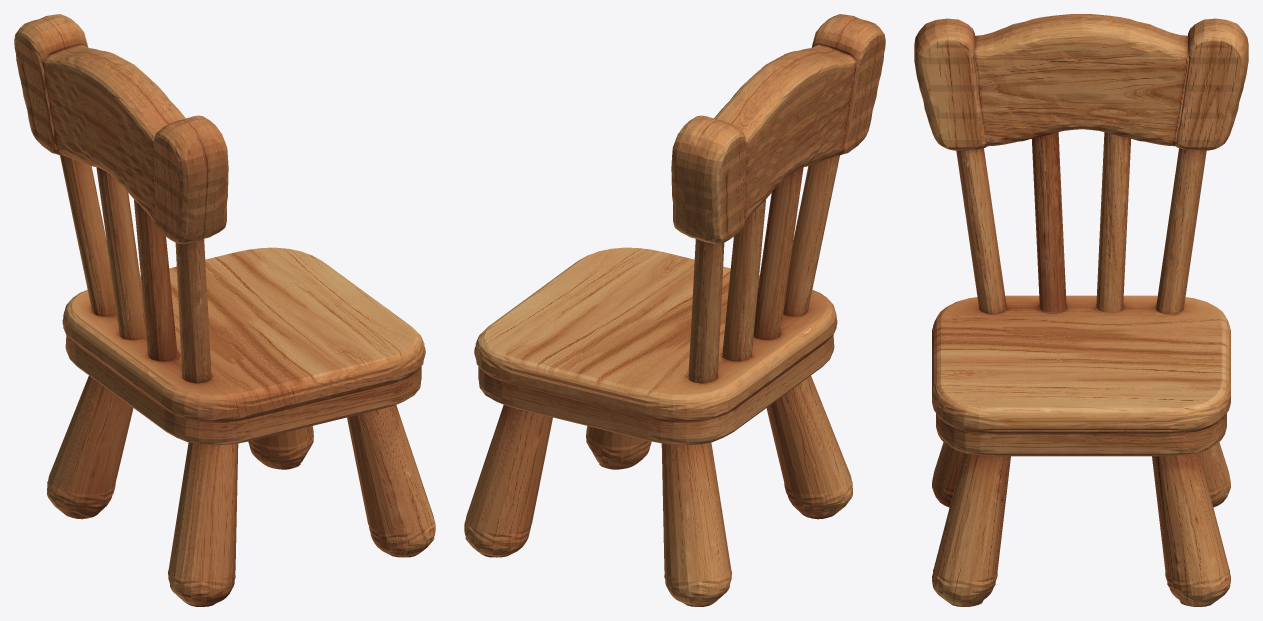
Rendered from woodenchair.glb.
3 renders of one model, left to right at view 1: azimuth 30°, elevation 25°; view 2: azimuth 150°, elevation 25°; view 3: azimuth 270°, elevation 25°, orthographic. The views are drawn at different scales.
Visible parts, largest first — view 1: tripo_node_e8c3d563-0971-4790-9921-8cc551f8201e; view 2: tripo_node_e8c3d563-0971-4790-9921-8cc551f8201e; view 3: tripo_node_e8c3d563-0971-4790-9921-8cc551f8201e.
Boxes of the visible parts, left/top/right/bottom form: tripo_node_e8c3d563-0971-4790-9921-8cc551f8201e: left=14, top=14, right=435, bottom=606; tripo_node_e8c3d563-0971-4790-9921-8cc551f8201e: left=464, top=14, right=885, bottom=606; tripo_node_e8c3d563-0971-4790-9921-8cc551f8201e: left=914, top=14, right=1248, bottom=606.
Bounding box in the file's own units: 0.5852 × 1 × 0.6361.
Materials: 1 (1 with a texture image).
